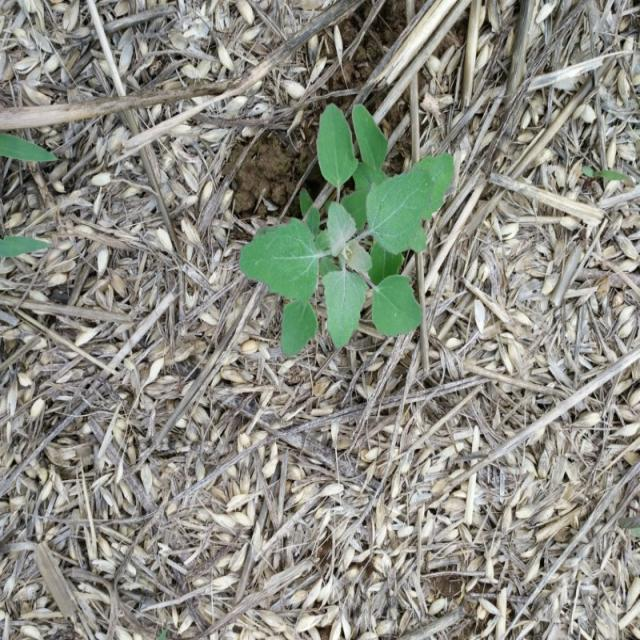goosefoots: (231, 140, 474, 333)
